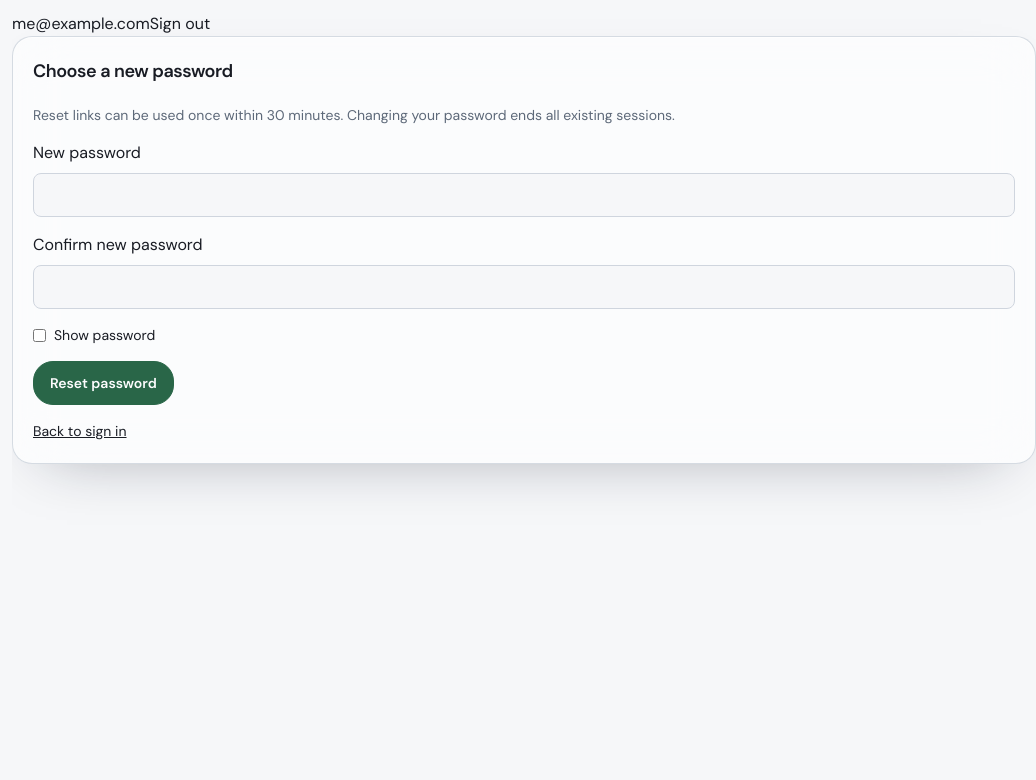
Test: refreshes authenticated browser state after a successful password reset
Expected: the text "me@example.com" is shown, [12, 13, 150, 34]
In the password field labelled "New password": (524, 195) [33, 173, 1015, 217], type "new-password"
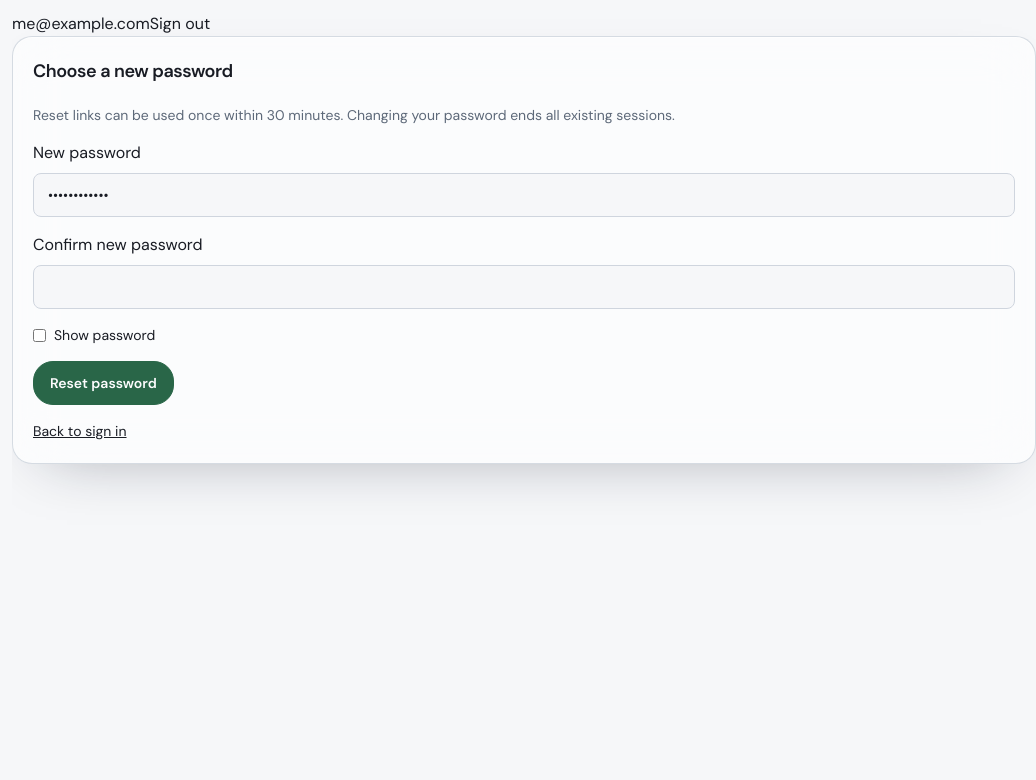
In the password field labelled "Confirm new password": (524, 287) [33, 265, 1015, 309], type "new-password"
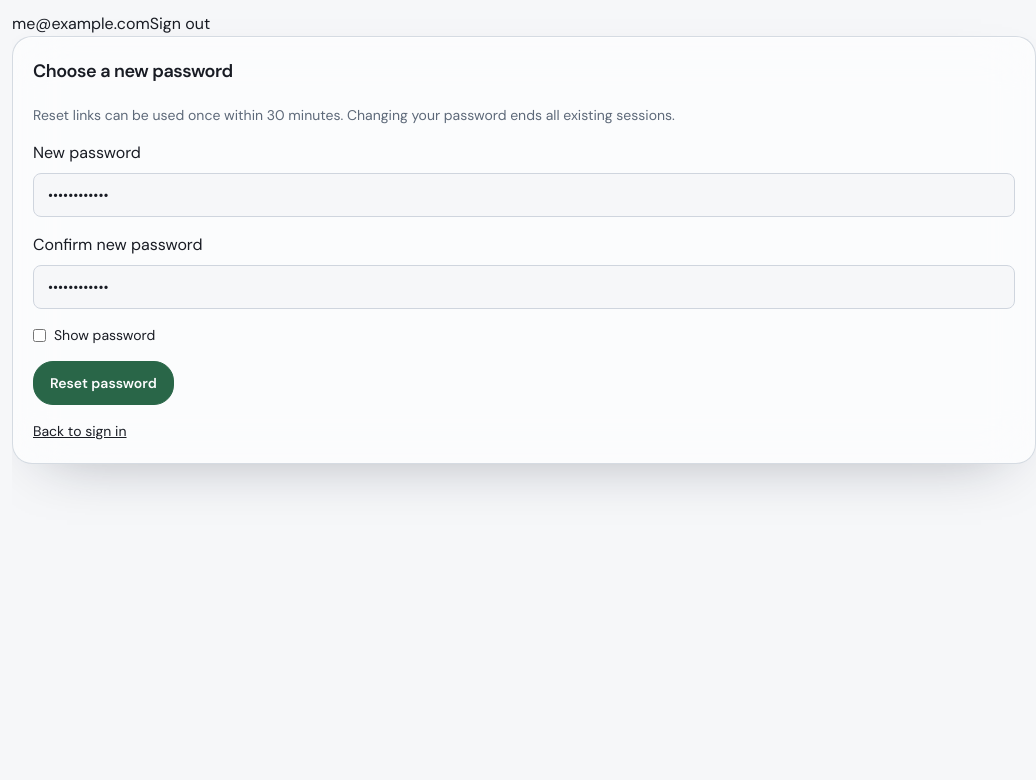
Click the button "Reset password": (103, 383) [33, 361, 174, 405]
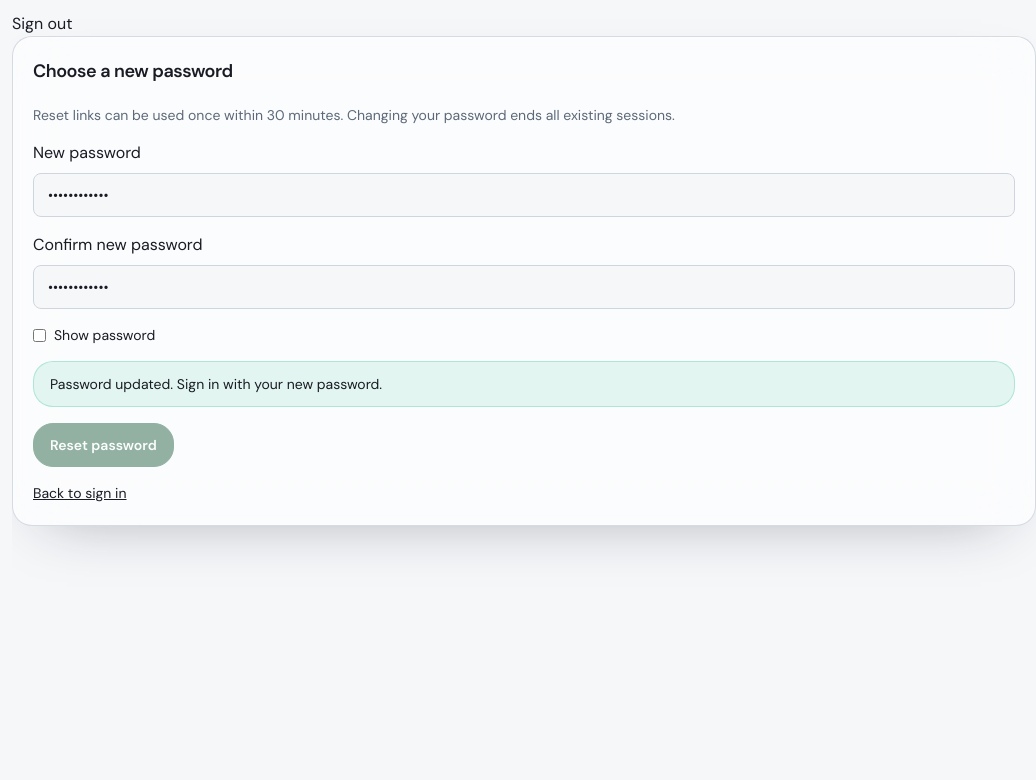
Expected: the text "Password updated. Sign in with your new password." is shown, [33, 361, 1015, 407]
Expected: the text "me@example.com" is gone
